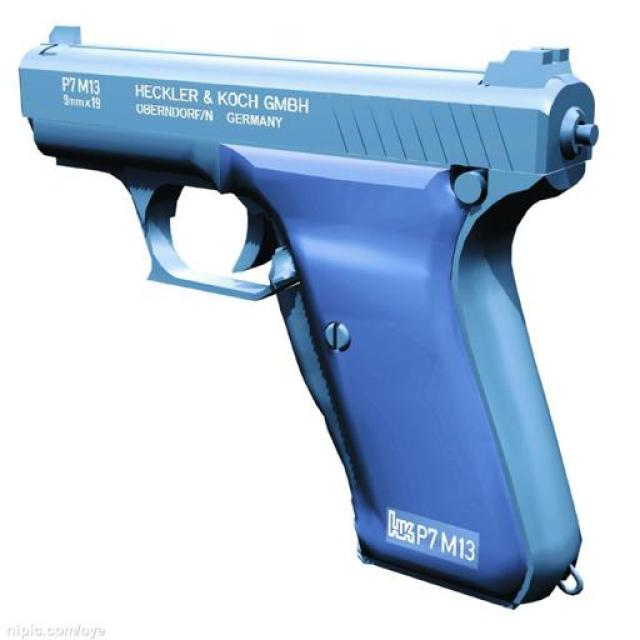pistol: (12, 24, 601, 608)
